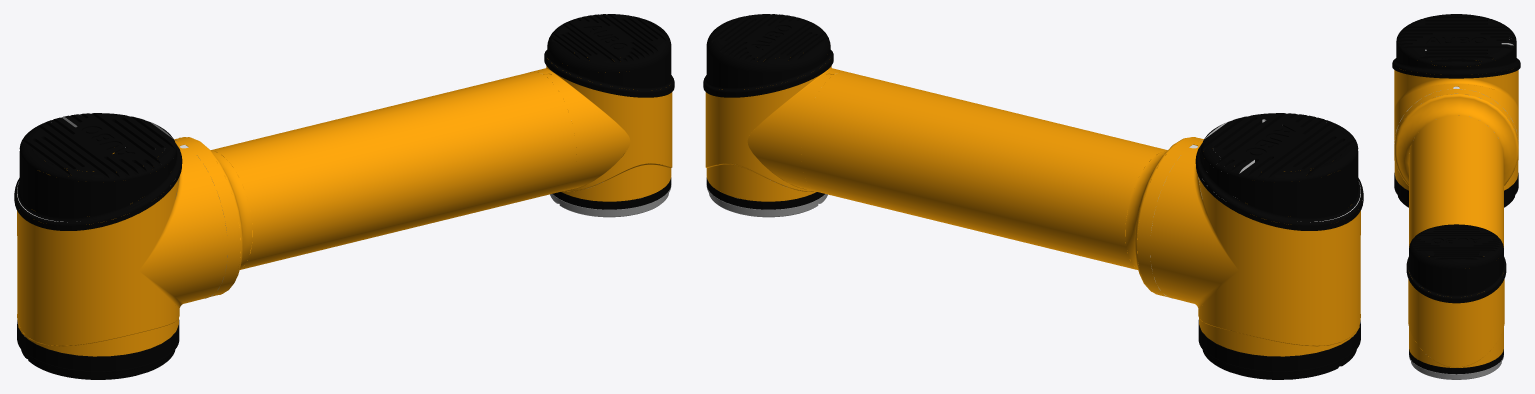
The model's file is upperArm_Link.DAE.
3 views of the same model, side by side, from view 1: azimuth 30°, elevation 25°; view 2: azimuth 150°, elevation 25°; view 3: azimuth 270°, elevation 25° (orthographic). The views are drawn at different scales.
Parts seen in each view (by area): view 1: NONE-DC_Shell_ncl1_12, NONE-DC_Shell, NONE-DC_Shell_ncl1_11, NONE-DC_Shell_ncl1_16, NONE-DC_Shell_ncl1_13, NONE-DC_Shell_ncl1_10, NONE-DC_Shell_ncl1_14, NONE-DC_Shell_ncl1_17; view 2: NONE-DC_Shell_ncl1_12, NONE-DC_Shell, NONE-DC_Shell_ncl1_11, NONE-DC_Shell_ncl1_16, NONE-DC_Shell_ncl1_13, NONE-DC_Shell_ncl1_10, NONE-DC_Shell_ncl1_14, NONE-DC_Shell_ncl1_17; view 3: NONE-DC_Shell_ncl1_12, NONE-DC_Shell_ncl1_11, NONE-DC_Shell_ncl1_13, NONE-DC_Shell_ncl1_16, NONE-DC_Shell, NONE-DC_Shell_ncl1_14, NONE-DC_Shell_ncl1_17, NONE-DC_Shell_ncl1_10.
Boxes of the visible parts, bbox=[...] form: NONE-DC_Shell_ncl1_12: bbox=[142, 71, 576, 296]; NONE-DC_Shell: bbox=[17, 140, 227, 356]; NONE-DC_Shell_ncl1_11: bbox=[14, 113, 182, 230]; NONE-DC_Shell_ncl1_16: bbox=[530, 57, 672, 201]; NONE-DC_Shell_ncl1_13: bbox=[544, 14, 674, 97]; NONE-DC_Shell_ncl1_10: bbox=[17, 320, 179, 379]; NONE-DC_Shell_ncl1_14: bbox=[552, 177, 671, 209]; NONE-DC_Shell_ncl1_17: bbox=[550, 182, 671, 217]; NONE-DC_Shell_ncl1_12: bbox=[801, 71, 1203, 296]; NONE-DC_Shell: bbox=[1150, 140, 1360, 356]; NONE-DC_Shell_ncl1_11: bbox=[1195, 113, 1363, 230]; NONE-DC_Shell_ncl1_16: bbox=[705, 57, 846, 201]; NONE-DC_Shell_ncl1_13: bbox=[703, 14, 833, 97]; NONE-DC_Shell_ncl1_10: bbox=[1198, 320, 1360, 379]; NONE-DC_Shell_ncl1_14: bbox=[706, 177, 824, 209]; NONE-DC_Shell_ncl1_17: bbox=[706, 180, 827, 217]; NONE-DC_Shell_ncl1_12: bbox=[1394, 89, 1518, 256]; NONE-DC_Shell_ncl1_11: bbox=[1392, 14, 1520, 78]; NONE-DC_Shell_ncl1_13: bbox=[1406, 224, 1506, 303]; NONE-DC_Shell_ncl1_16: bbox=[1408, 272, 1504, 367]; NONE-DC_Shell: bbox=[1394, 60, 1518, 190]; NONE-DC_Shell_ncl1_14: bbox=[1409, 349, 1503, 374]; NONE-DC_Shell_ncl1_17: bbox=[1409, 355, 1503, 379]; NONE-DC_Shell_ncl1_10: bbox=[1394, 173, 1518, 207].
Size of the model in its own units: 692 by 157 by 211.
